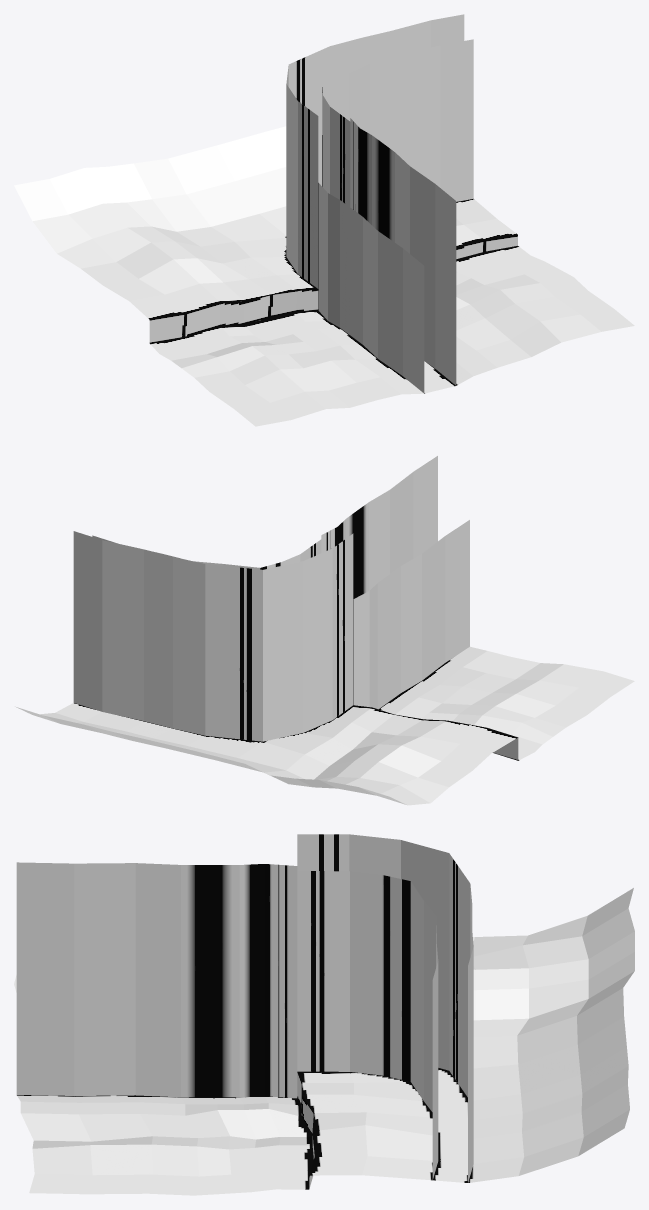
File: Area2.fbx
3 renders of one model, top to bottom at view 1: azimuth 30°, elevation 25°; view 2: azimuth 150°, elevation 25°; view 3: azimuth 270°, elevation 25°, orthographic. The views are drawn at different scales.
Visible parts, largest first — view 1: Plane, Wall4, Wall1, Wall2, Wall3; view 2: Wall3, Plane, Wall1, Wall2, Wall4; view 3: Plane, Wall2, Wall4, Wall3, Traversable.
Boxes of the visible parts, x1,y1,x2,y2 form: Plane: [14, 126, 634, 426]; Wall4: [322, 39, 473, 206]; Wall1: [318, 183, 424, 393]; Wall2: [350, 118, 456, 385]; Wall3: [286, 14, 464, 288]; Wall3: [73, 531, 353, 741]; Plane: [15, 646, 634, 805]; Wall1: [353, 520, 469, 709]; Wall2: [321, 456, 437, 598]; Wall4: [92, 535, 321, 569]; Plane: [14, 888, 634, 1195]; Wall2: [16, 862, 297, 1098]; Wall4: [297, 871, 438, 1179]; Wall3: [297, 834, 473, 1182]; Traversable: [433, 1068, 467, 1182].
Size of the model in its own units: 4295 by 2060 by 4742.
Materials: 1 (1 with a texture image).
